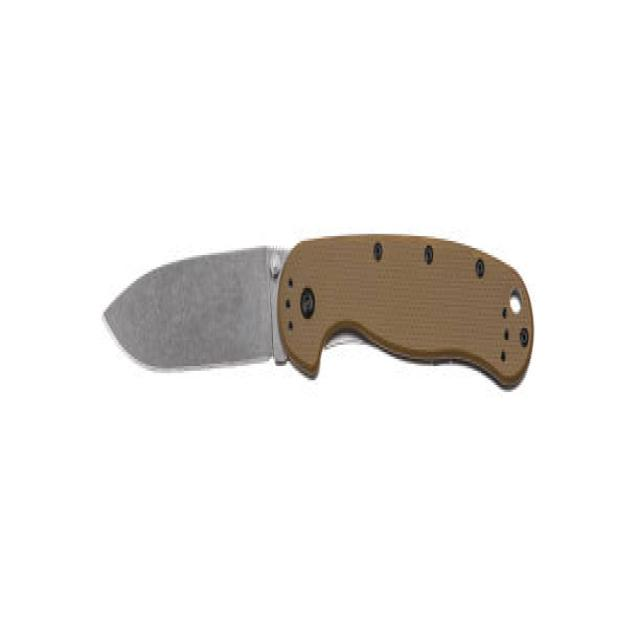knife: (101, 234, 538, 383)
